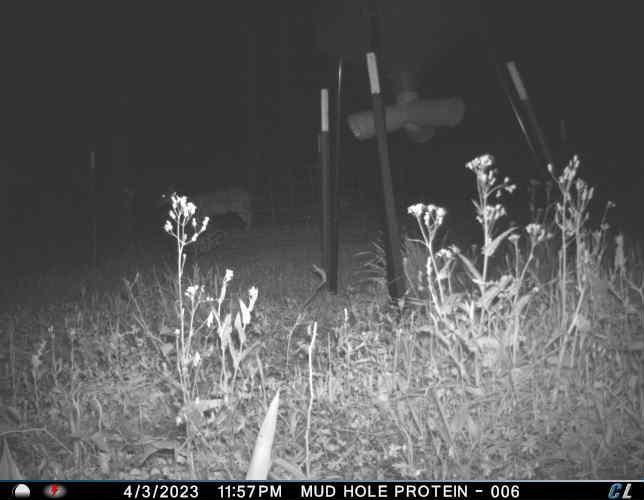Deer: (155, 176, 258, 233)
